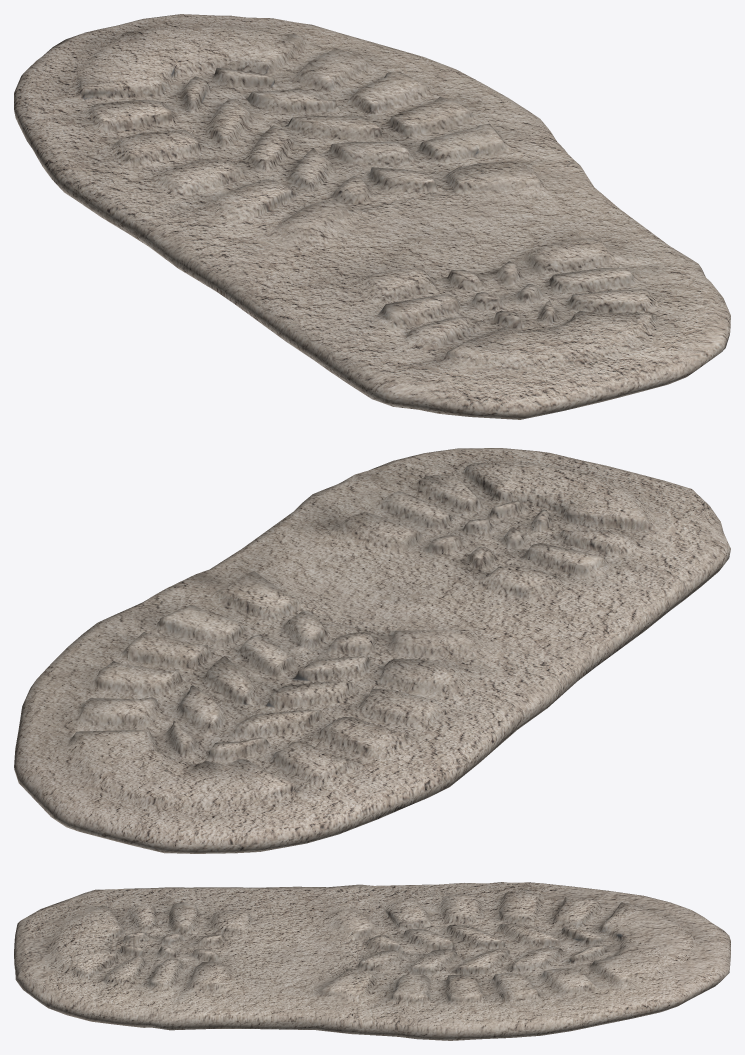
Rendered from footprint_cast_01.fbx.
3 views of the same model, one above another, from view 1: azimuth 30°, elevation 25°; view 2: azimuth 150°, elevation 25°; view 3: azimuth 270°, elevation 25° (orthographic). The views are drawn at different scales.
Parts seen in each view (by area): view 1: footprint_cast_01; view 2: footprint_cast_01; view 3: footprint_cast_01.
Part boxes in pixels (x1,y1,x2,y2): footprint_cast_01: (14,14,730,419); footprint_cast_01: (14,448,730,853); footprint_cast_01: (14,882,730,1040).
Bounding box in the file's own units: 41.48 × 3.79 × 84.74.
